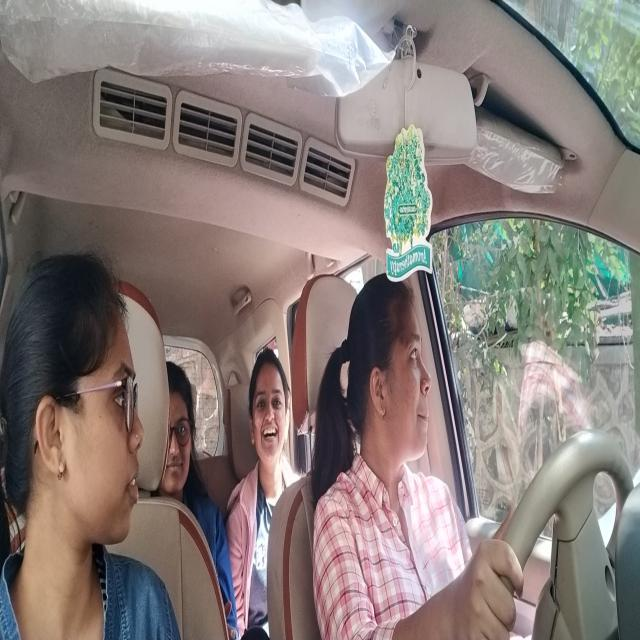LeftRight: (350, 274, 435, 463)
person: (26, 251, 147, 563), (250, 336, 289, 464), (169, 366, 197, 492)
